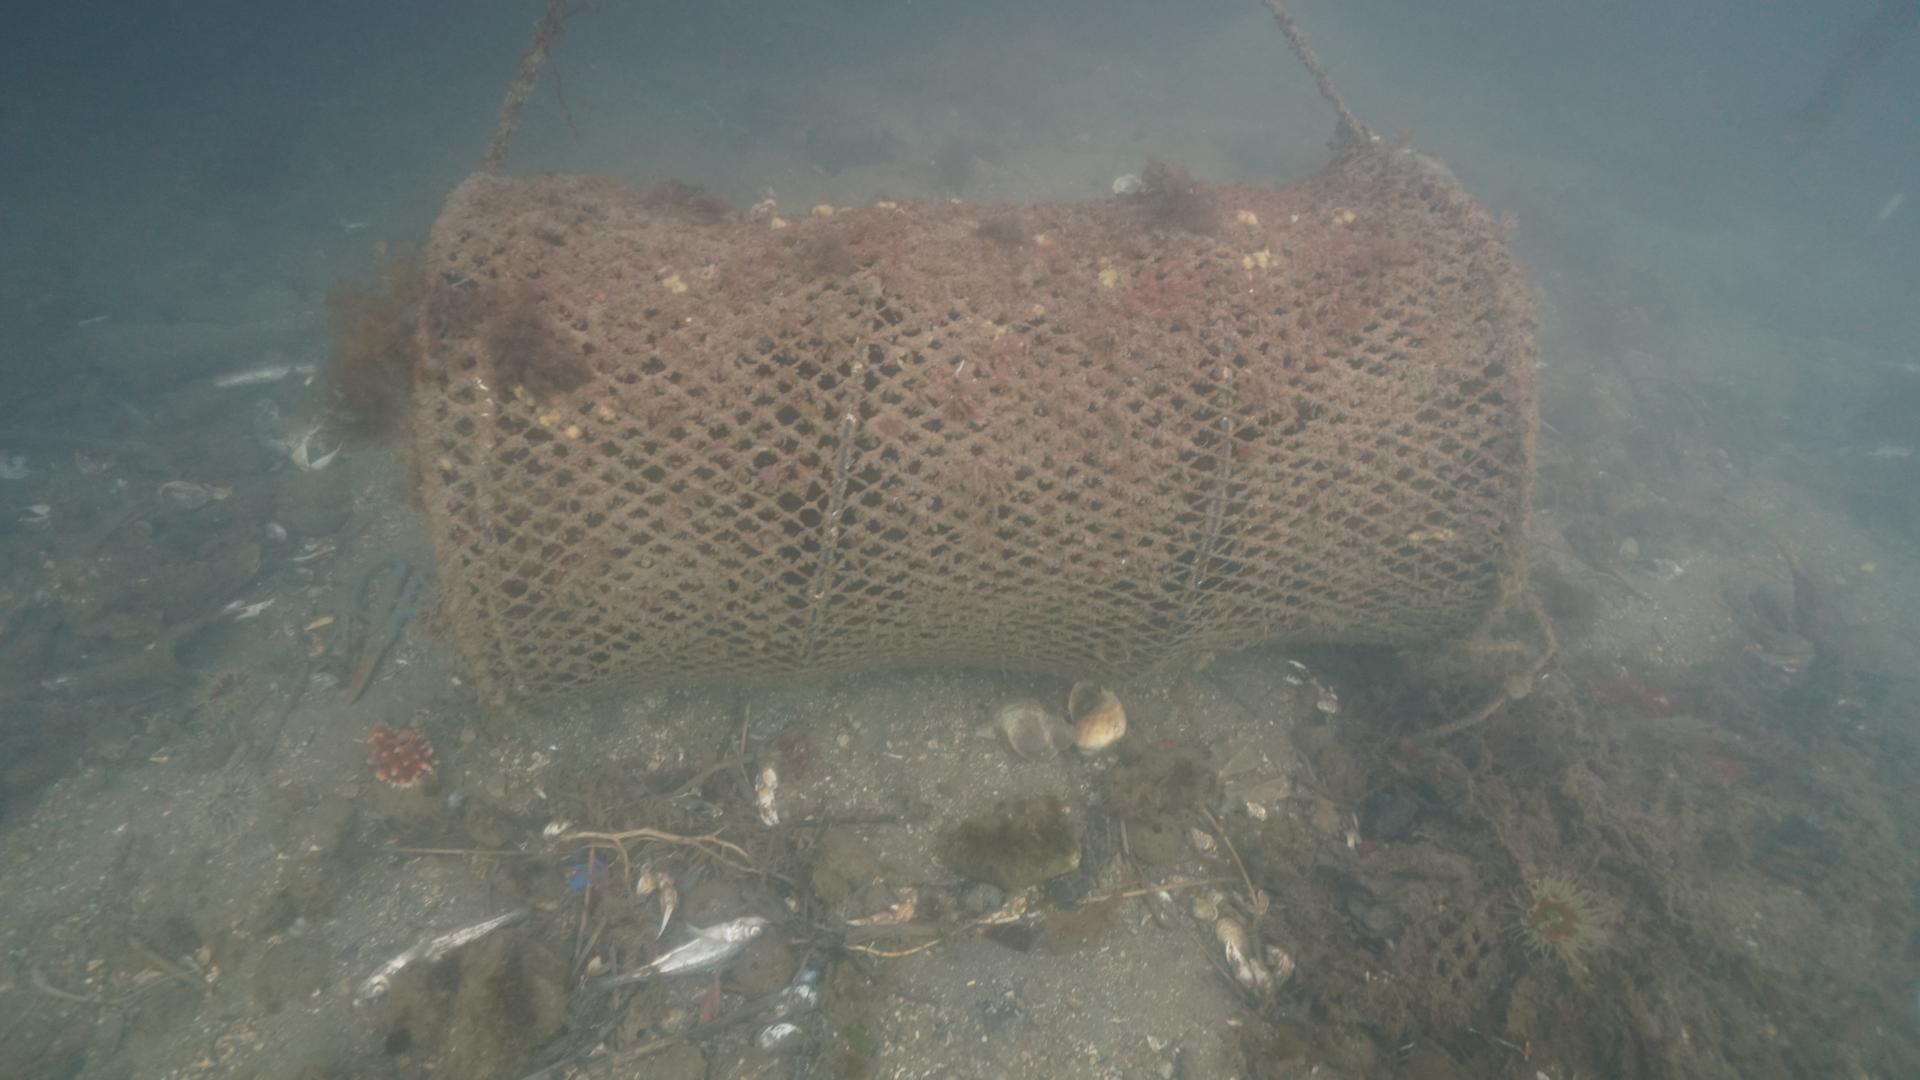rope: (480, 0, 587, 160), (1265, 0, 1373, 135)
spring fish trap: (402, 123, 1539, 713)
